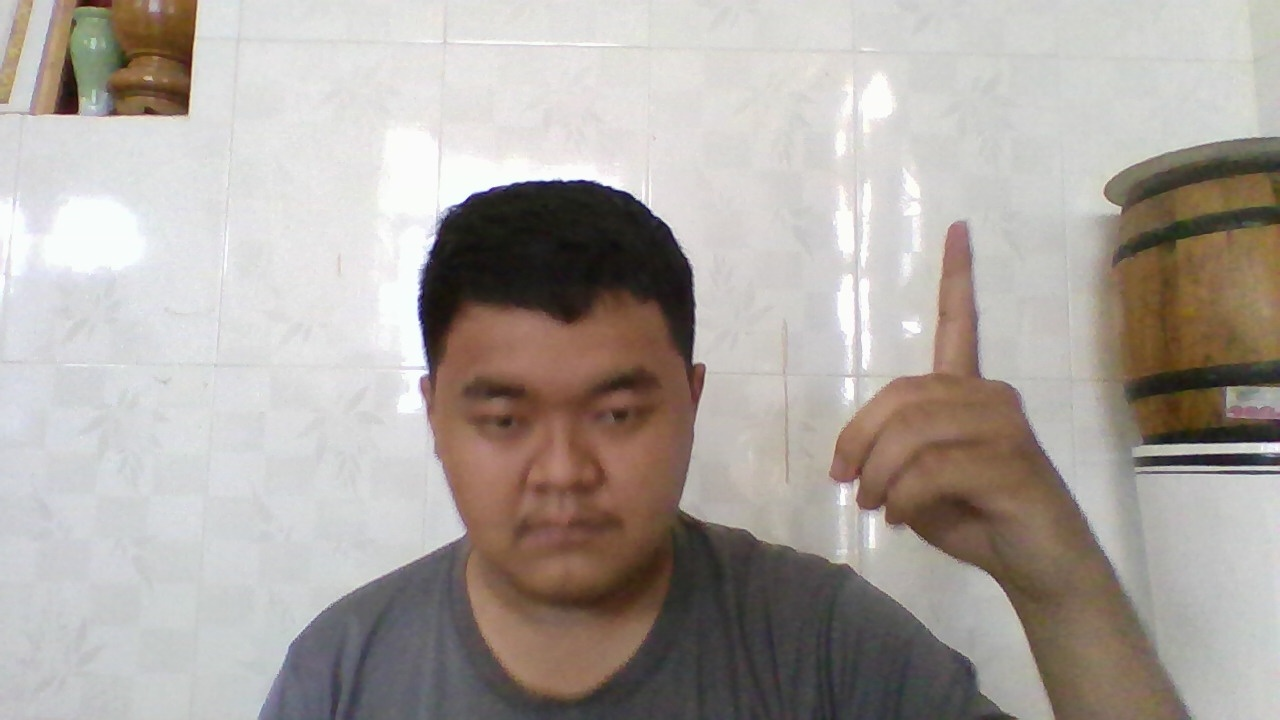D: (820, 215, 1062, 592)
